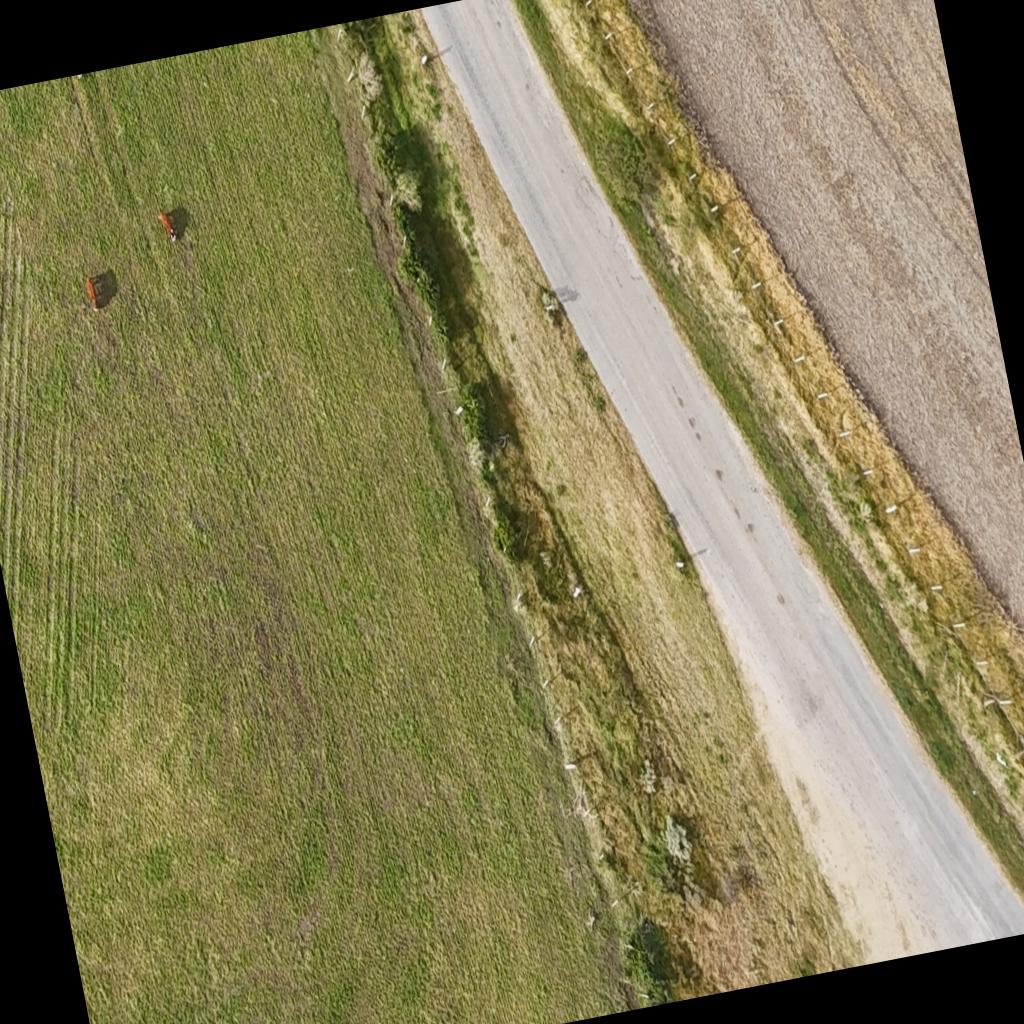cow: (150, 198, 186, 256), (83, 269, 118, 312)
